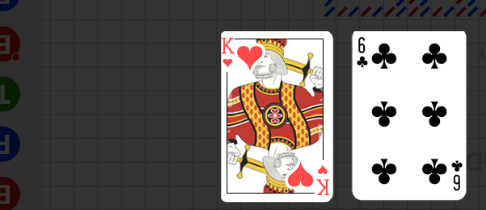6C: (449, 158, 463, 192)
KH: (221, 36, 235, 69)
